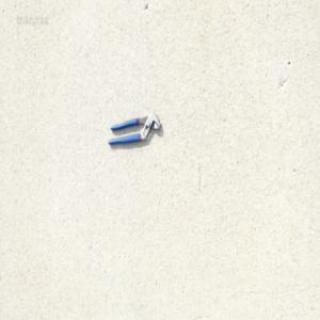Pliertrack_idkeyframe: (107, 111, 162, 146)
